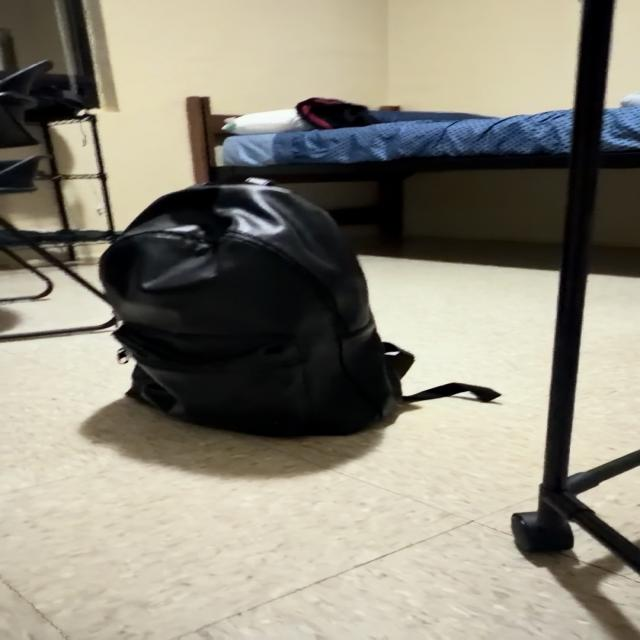backpack: (100, 180, 499, 437)
